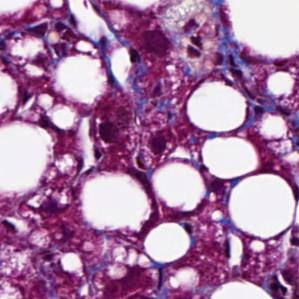inflammation: (179, 16, 206, 63), (261, 268, 299, 299), (143, 130, 173, 157)
